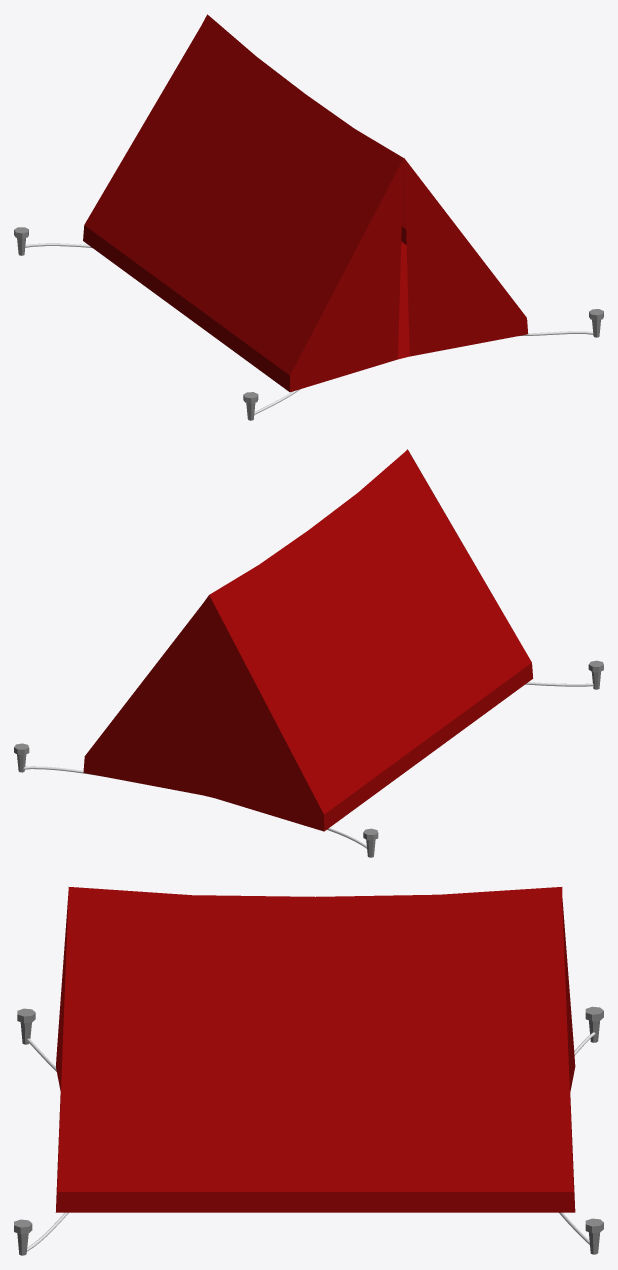
File: lptent2rrrrrr (1).fbx
3 views of the same model, one above another, from view 1: azimuth 30°, elevation 25°; view 2: azimuth 150°, elevation 25°; view 3: azimuth 270°, elevation 25° (orthographic). The views are drawn at different scales.
Visible parts, largest first — view 1: Cube.001, Cube.002, BezierCurve; view 2: Cube.001, Cube.002, BezierCurve; view 3: Cube.002, Cube.001, BezierCurve.
Part boxes in pixels (x1,y1,x2,y2): Cube.001: (83, 94, 528, 391); Cube.002: (83, 14, 527, 392); BezierCurve: (25, 243, 593, 414); Cube.001: (83, 449, 533, 831); Cube.002: (84, 462, 532, 830); BezierCurve: (23, 682, 593, 848); Cube.002: (56, 887, 574, 1212); Cube.001: (55, 887, 575, 1212); BezierCurve: (20, 1032, 595, 1253).
Bounding box in the file's own units: 376 × 211 × 425.
